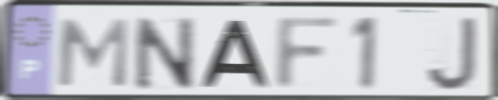1: (348, 14, 378, 93)
A: (198, 18, 274, 90)
F: (271, 14, 346, 94)
J: (424, 15, 480, 93)
M: (54, 17, 131, 91)
N: (131, 14, 198, 93)
